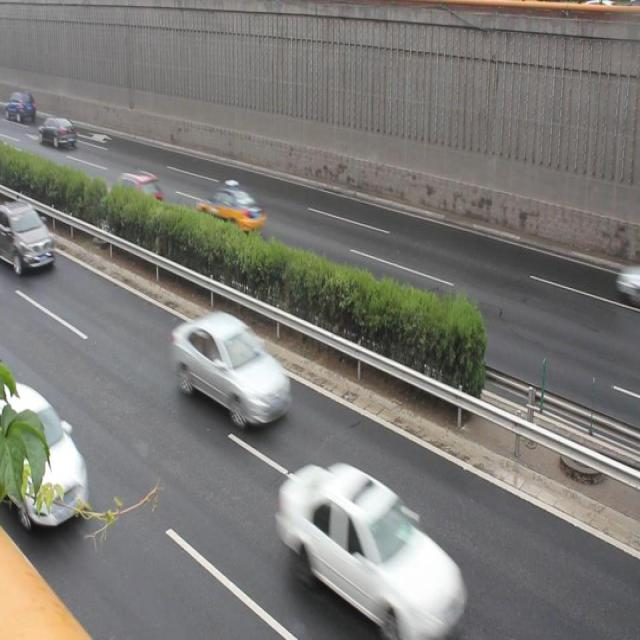car: (277, 463, 462, 634), (172, 311, 291, 426), (0, 384, 90, 526), (1, 200, 54, 274), (196, 186, 265, 239), (101, 173, 165, 230)
